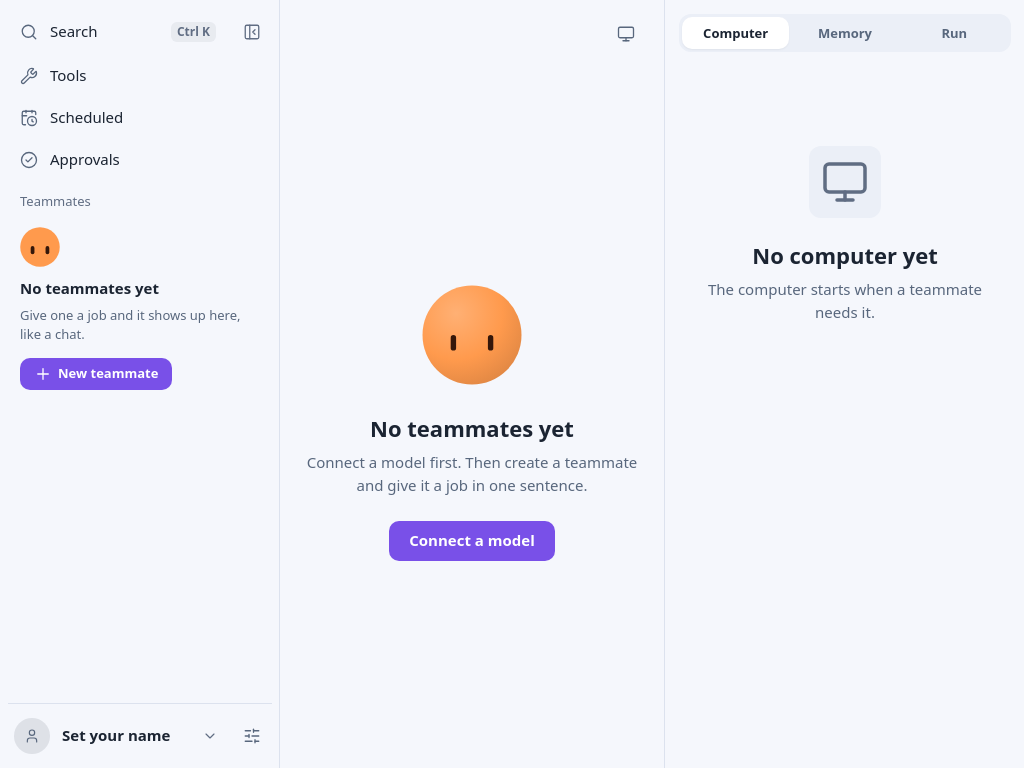
hiding the sidebar › works without usable storage
This screenshot has width=1024, height=768.
Check: the element named "Sidebar" is shown, box [0,0,280,767]
Click the button named "Hide sidebar" at (252, 32), box [232,12,272,52]
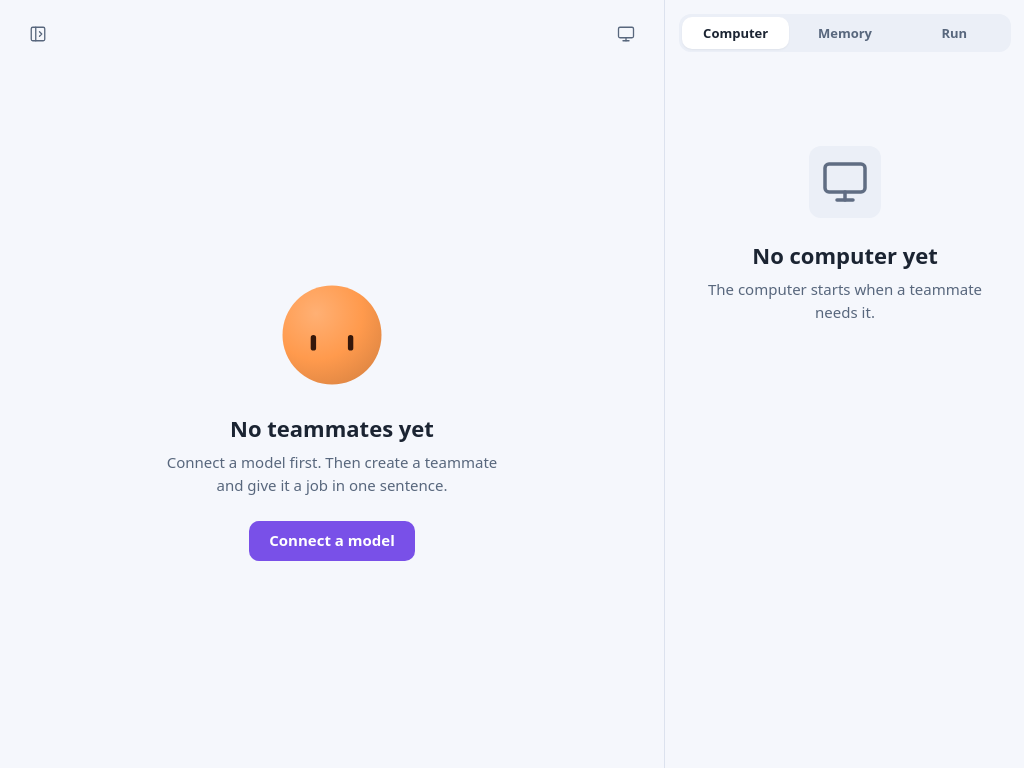
Check: the button "Sidebar" is gone
